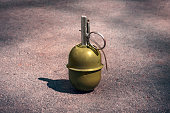e1: (67, 15, 108, 93)
